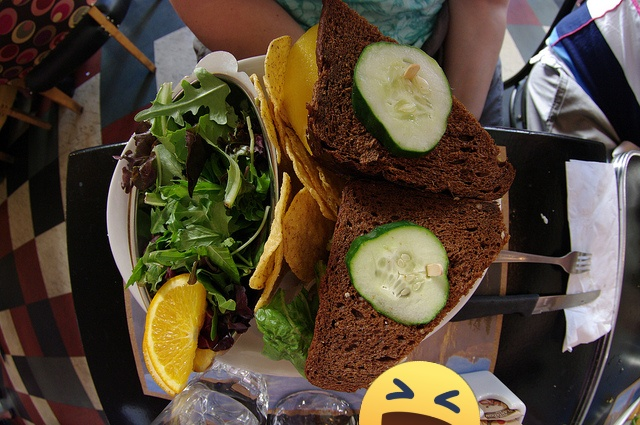haha: (359, 361, 480, 425)
